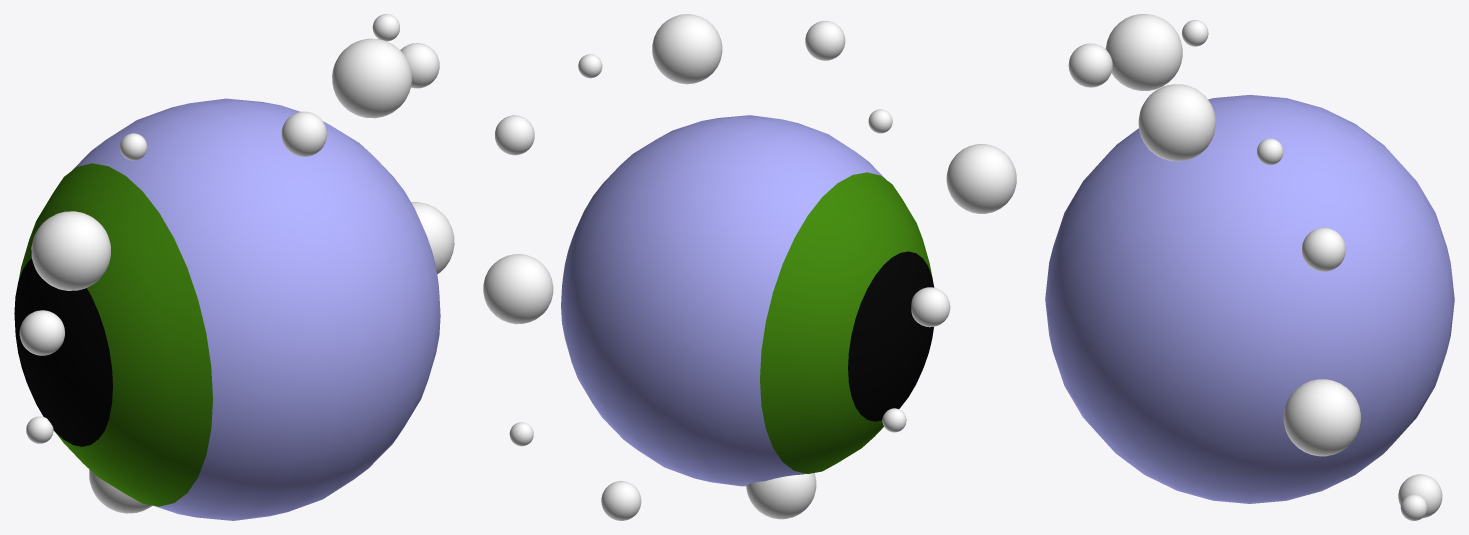
Rendered from Idle Eye.obj.
The picture shows the model from 3 angles, left to right: view 1: azimuth 30°, elevation 25°; view 2: azimuth 150°, elevation 25°; view 3: azimuth 270°, elevation 25°; orthographic projection. The views are drawn at different scales.
Parts seen in each view (by area): view 1: Eye.001, Sphere009.003; view 2: Eye.001, Sphere009.003; view 3: Eye.001, Sphere009.003.
Boxes of the visible parts, x1,y1,x2,y2 form: Eye.001: [14, 98, 440, 520]; Sphere009.003: [19, 14, 454, 513]; Eye.001: [561, 115, 934, 486]; Sphere009.003: [483, 14, 1016, 520]; Eye.001: [1045, 95, 1454, 503]; Sphere009.003: [1068, 14, 1442, 520].
Bounding box in the file's own units: 83.02 × 74.65 × 60.24.
